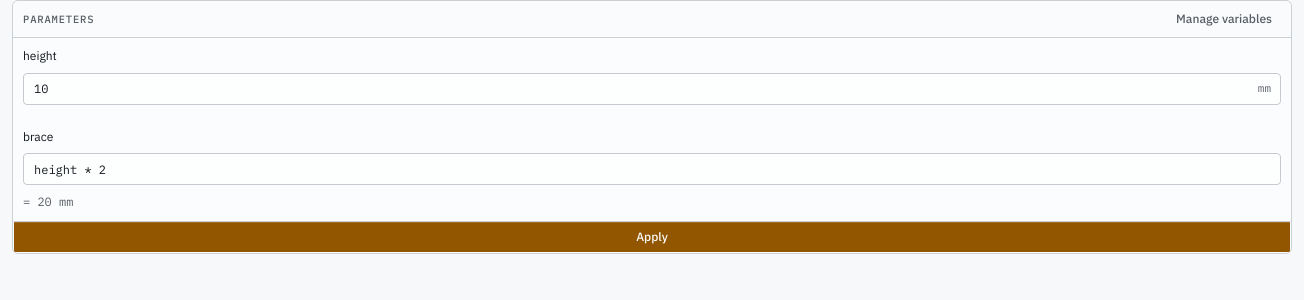
Test case: CadParameterPanel › surfaces a cycle refusal verbatim in the panel error region and issues nothing
Replace the text in the field labelled "brace" with "brace + height" at [652, 169], box [23,153,1281,185]
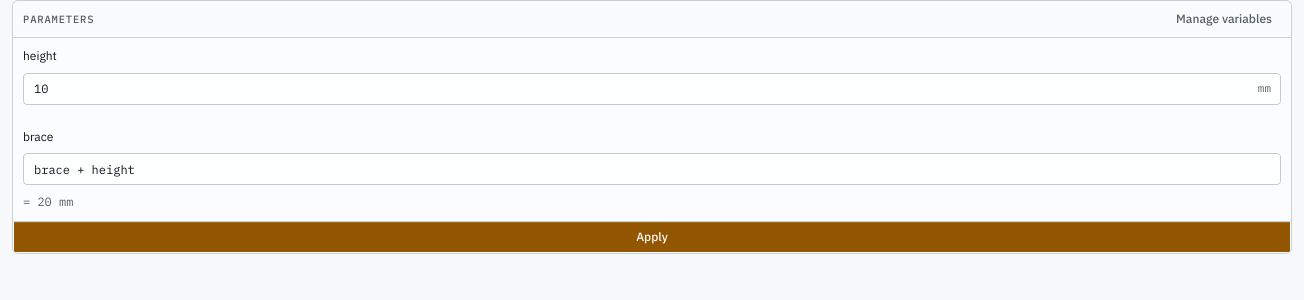
Submit the form named "Parameters", box [13,38,1291,221]
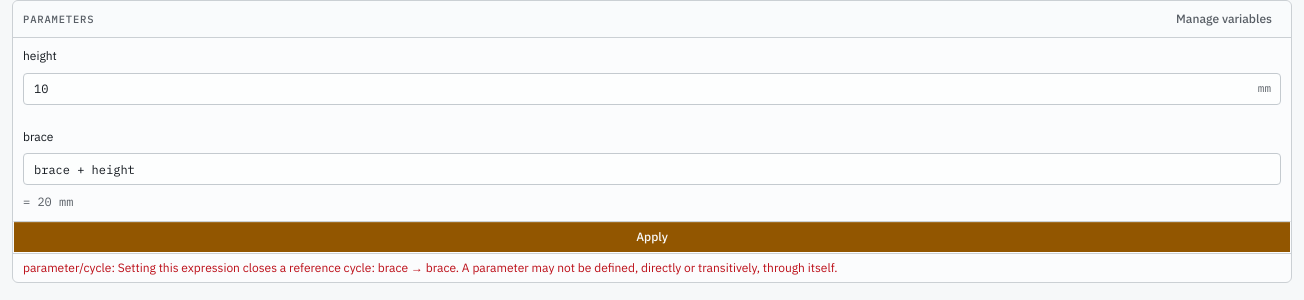
Expected: the message shows "parameter/cycle", [23,260,838,275]
Expected: the message shows "brace → brace", [23,260,838,275]
